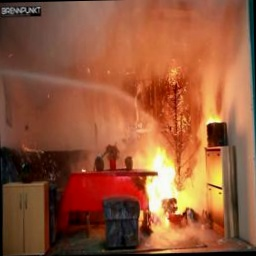fire: (140, 145, 195, 210)
